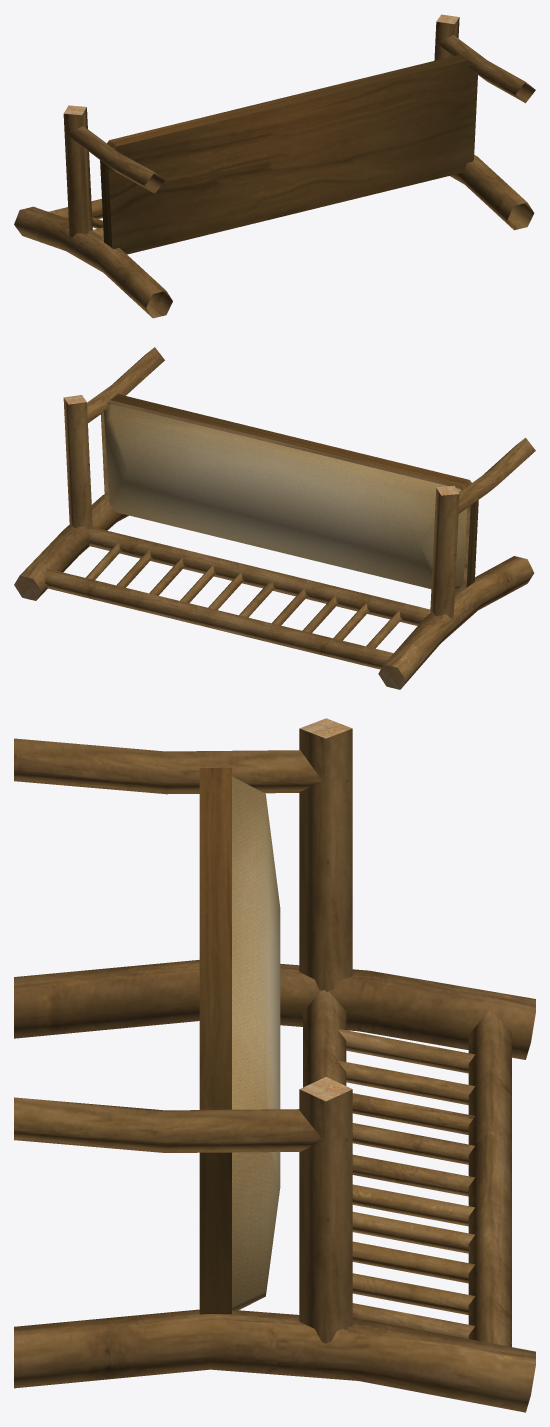
File: Log_Sofa_A.fbx
3 views of the same model, one above another, from view 1: azimuth 30°, elevation 25°; view 2: azimuth 150°, elevation 25°; view 3: azimuth 270°, elevation 25° (orthographic). The views are drawn at different scales.
Parts seen in each view (by area): view 1: Log_Sofa_A; view 2: Log_Sofa_A; view 3: Log_Sofa_A.
Boxes of the visible parts, x1=… form: Log_Sofa_A: x1=14, y1=14, x2=535, y2=318; Log_Sofa_A: x1=14, y1=347, x2=535, y2=689; Log_Sofa_A: x1=14, y1=718, x2=535, y2=1412.
Size of the model in its own units: 17.99 by 7.05 by 10.35.
